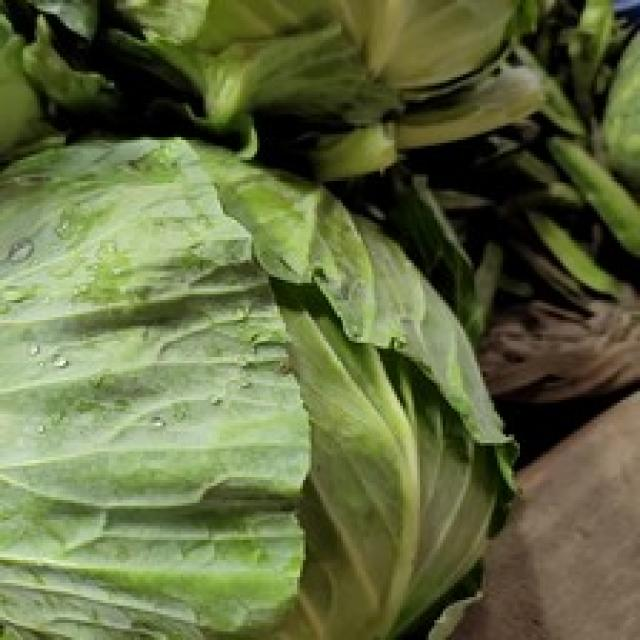Cabbage: (0, 129, 520, 637)
